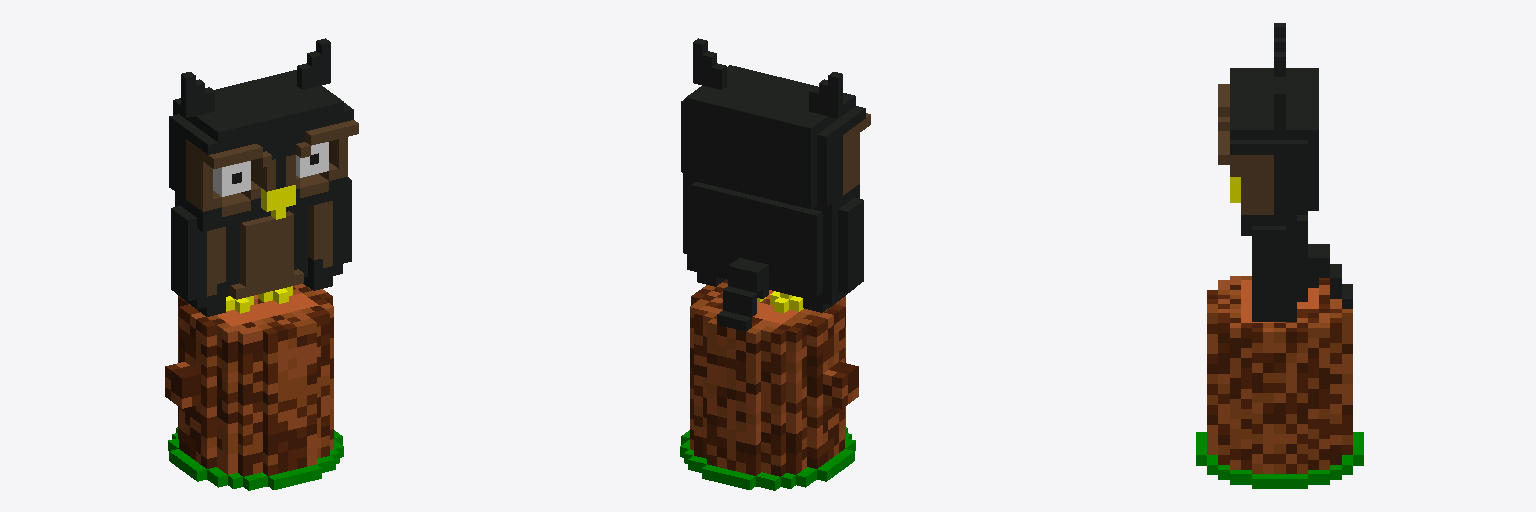
3 views of the same model, side by side, from view 1: azimuth 30°, elevation 25°; view 2: azimuth 150°, elevation 25°; view 3: azimuth 270°, elevation 25° (orthographic).
Parts seen in each view (by area): view 1: object 1; view 2: object 1; view 3: object 1.
Part boxes in pixels (x1,y1,x2,y2): object 1: (165,38,358,490); object 1: (680,38,870,490); object 1: (1196,23,1363,488).
Size of the model in its own units: 1.7 by 3.9 by 1.5.
1 materials, 1 textured.